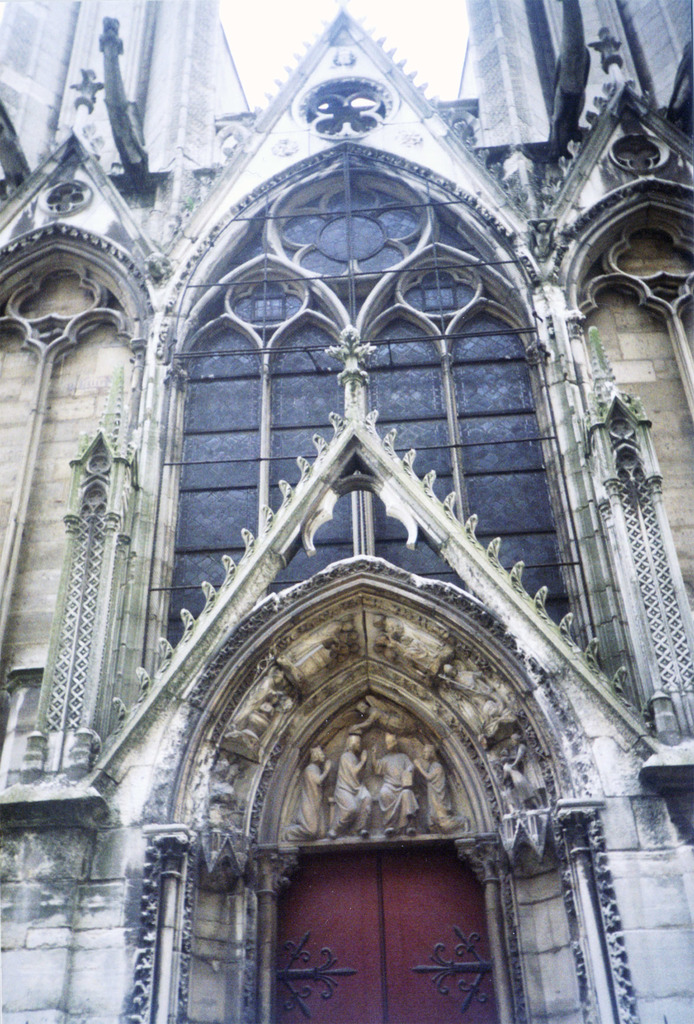door: (382, 860, 494, 1024), (277, 859, 378, 1024)
